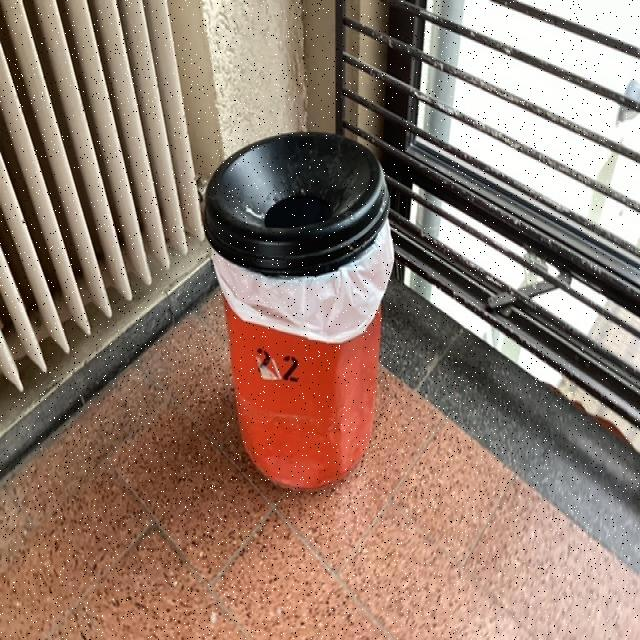garbage container: (187, 86, 405, 514)
